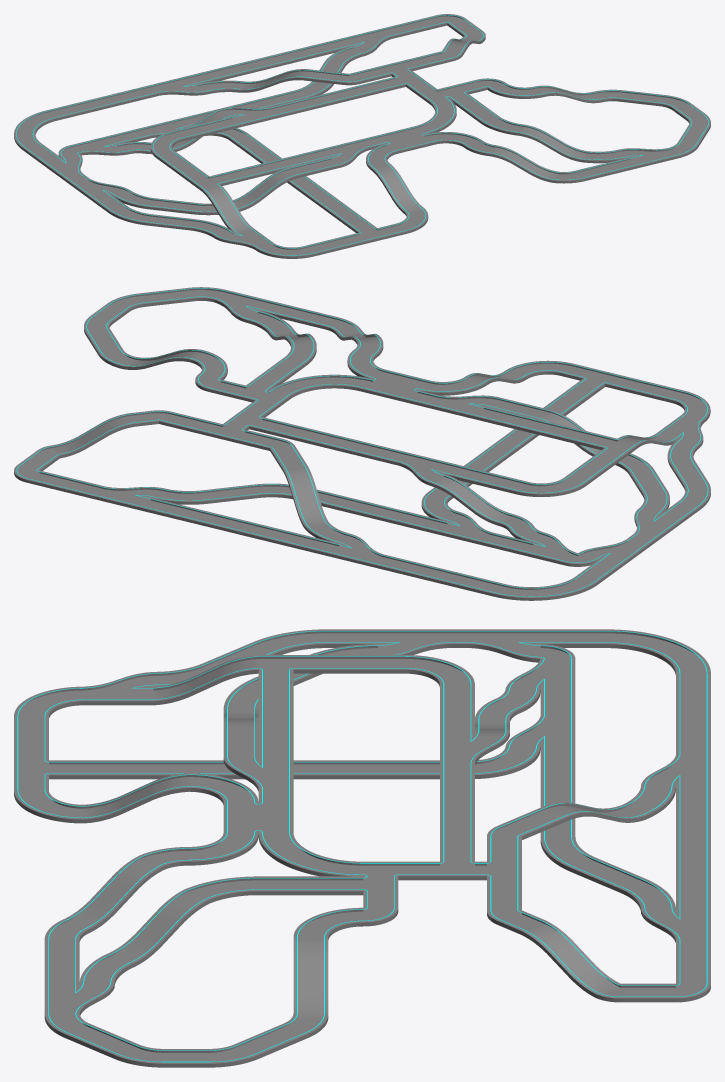
The model's file is Track 1 - Road Edge.fbx.
3 views of the same model, one above another, from view 1: azimuth 30°, elevation 25°; view 2: azimuth 150°, elevation 25°; view 3: azimuth 270°, elevation 25° (orthographic). The views are drawn at different scales.
Parts seen in each view (by area): view 1: Road Edge; view 2: Road Edge; view 3: Road Edge.
Part boxes in pixels (x1,y1,x2,y2): Road Edge: [14, 14, 710, 258]; Road Edge: [14, 287, 710, 600]; Road Edge: [14, 629, 710, 1067].
Size of the model in its own units: 1177 by 45 by 798.
